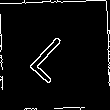L_NE: (27, 26, 83, 84)
